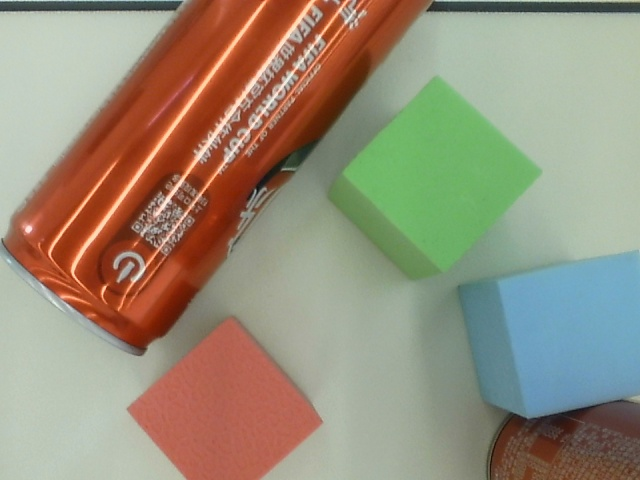bluecube: (454, 247, 640, 420)
cola: (1, 1, 440, 363), (482, 394, 640, 480)
greencube: (325, 71, 544, 283)
redcube: (124, 313, 341, 480)
